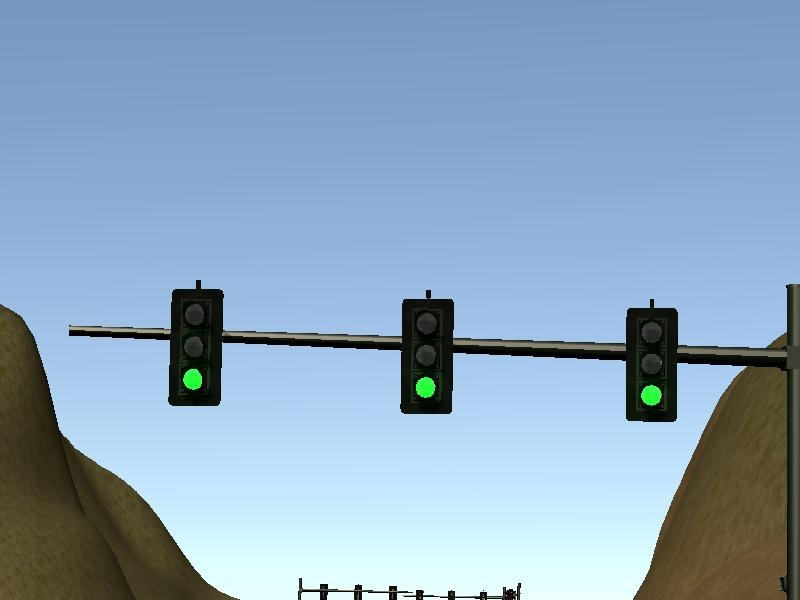green: (170, 290, 222, 406), (402, 298, 454, 414), (626, 308, 677, 423)
